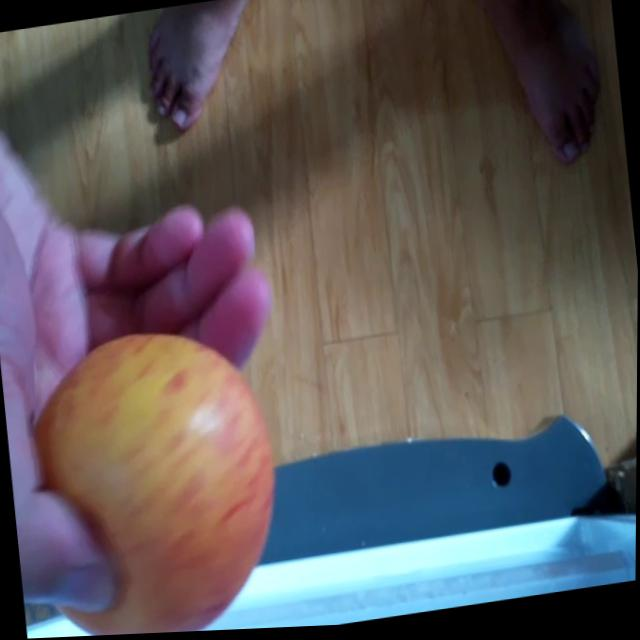apple: (11, 309, 292, 639)
